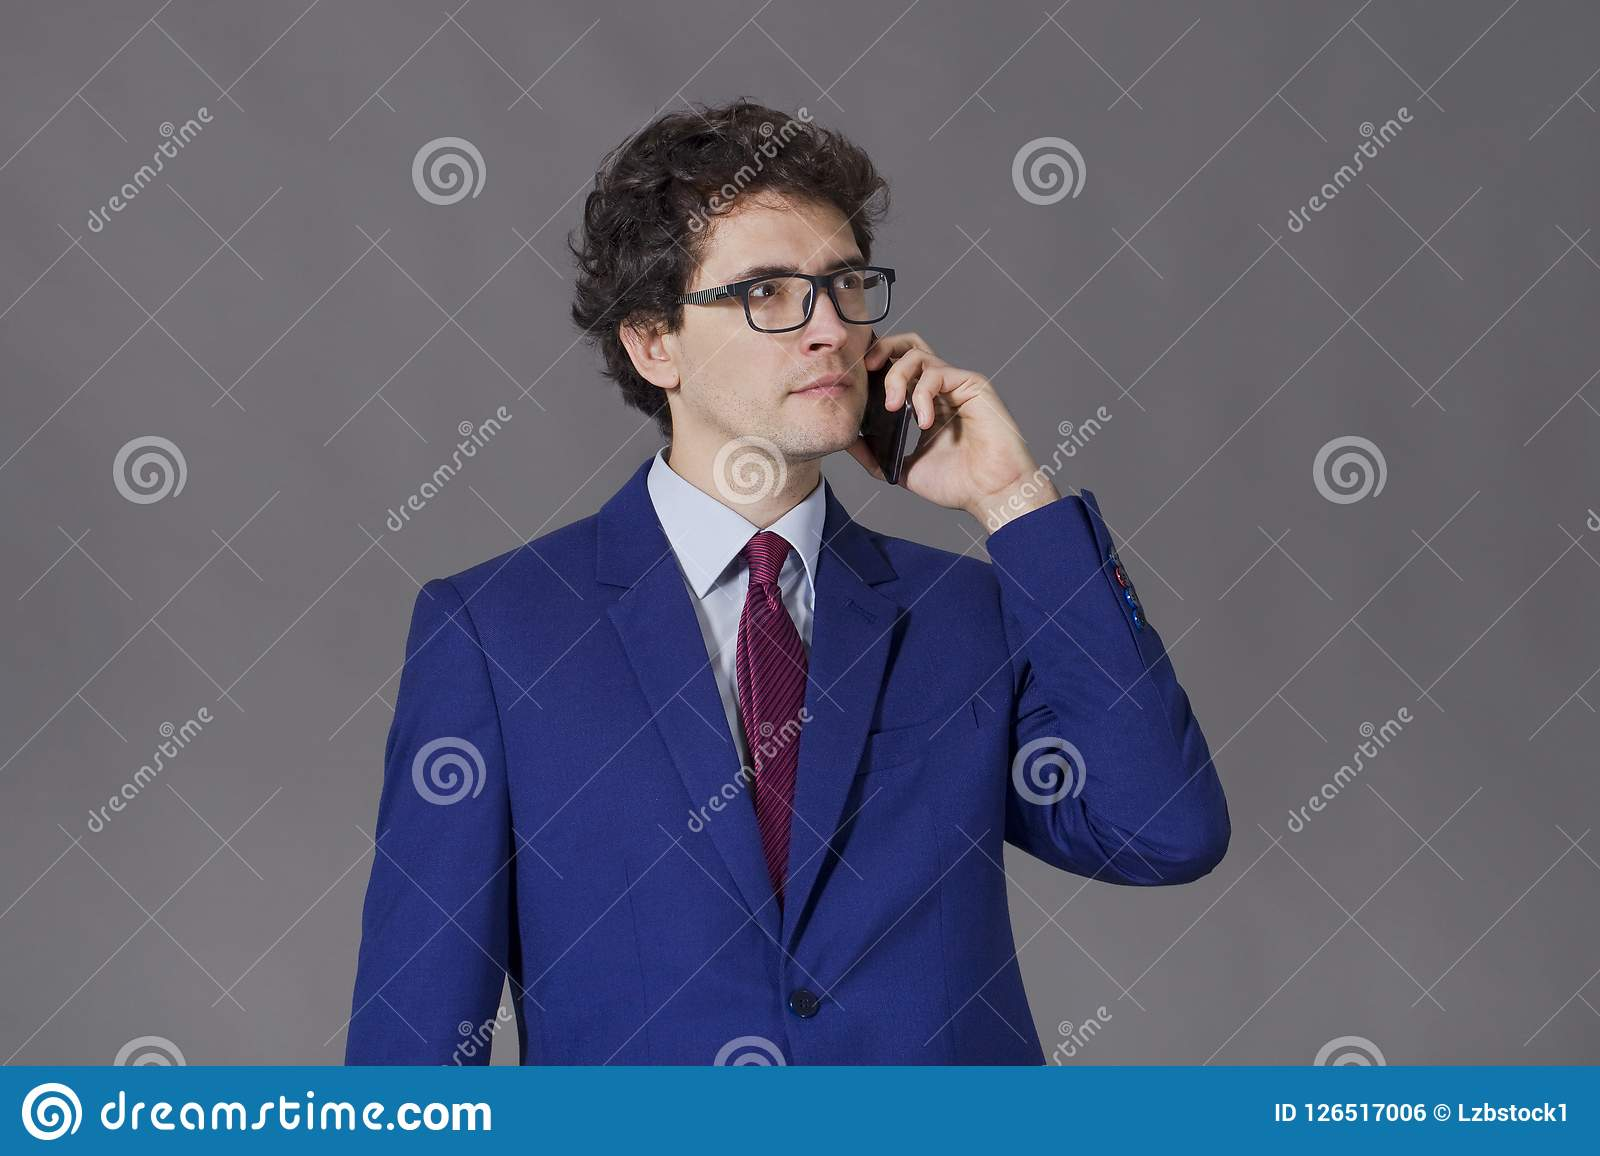phone: (853, 335, 925, 485)
talk: (723, 233, 1029, 529)
